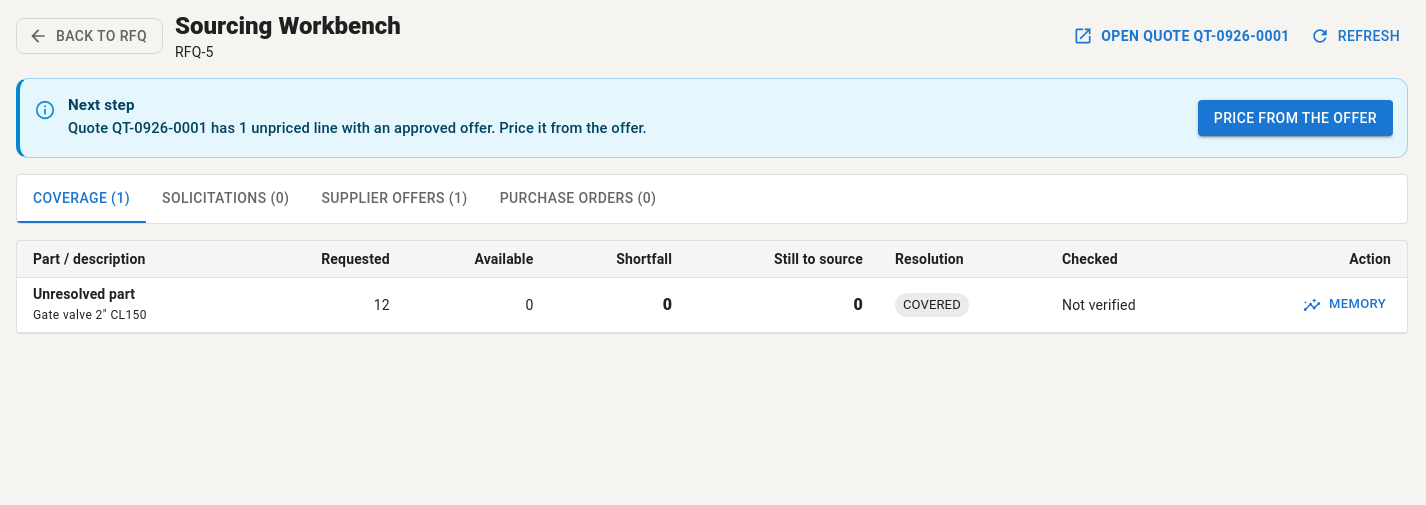
Scenario: the offer that was just awarded › raises no "Needs attention" at all when it is the only offer on the line
Step 1. Click the tab "Supplier offers (1)" → (394, 199), box x1=305 y1=175 x2=484 y2=223
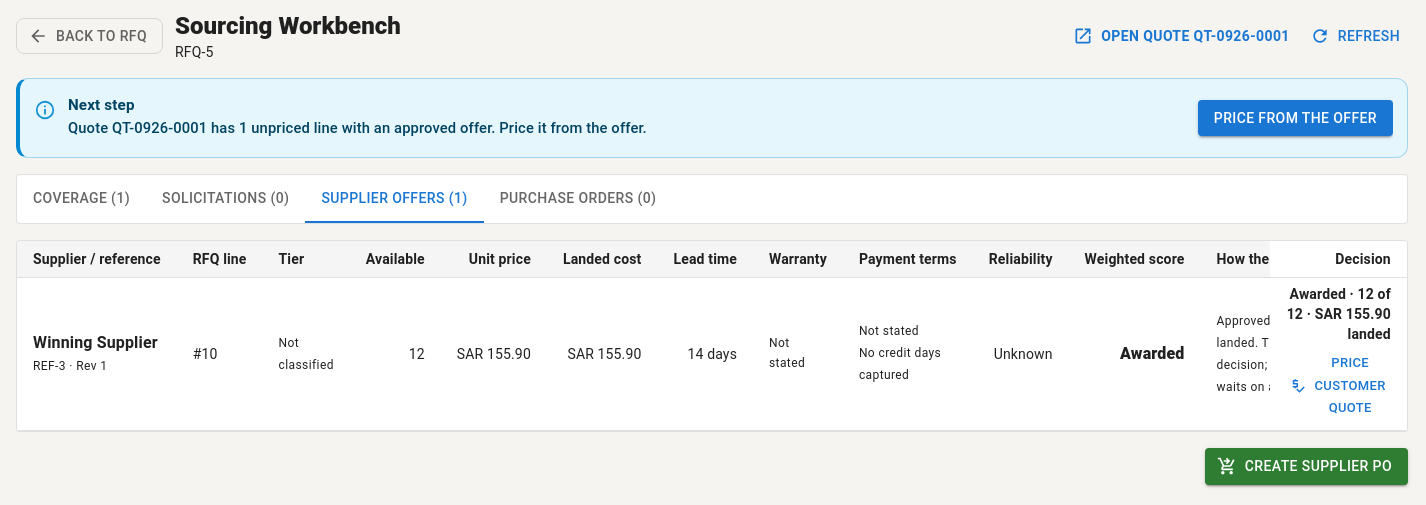
Expected: the text "Winning Supplier" is shown, x1=33 y1=331 x2=161 y2=355
